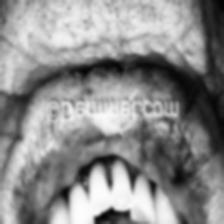Potentially Malignant Skin Tumors: (92, 111, 138, 139)
